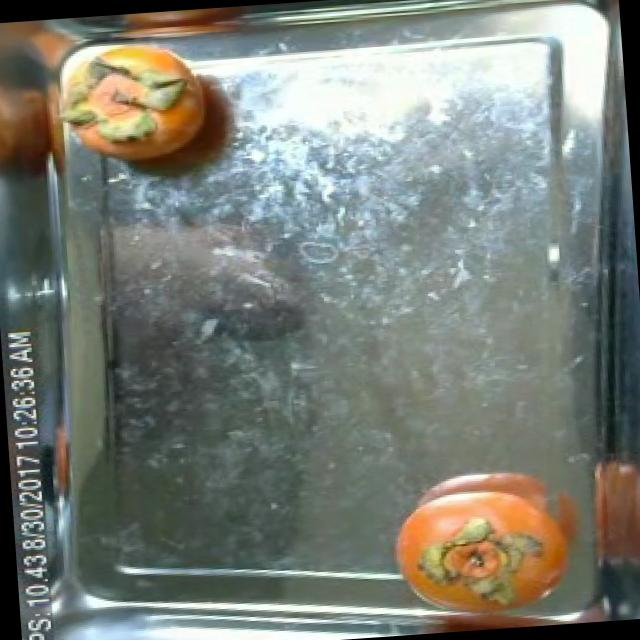Fruit: (570, 443, 640, 576)
